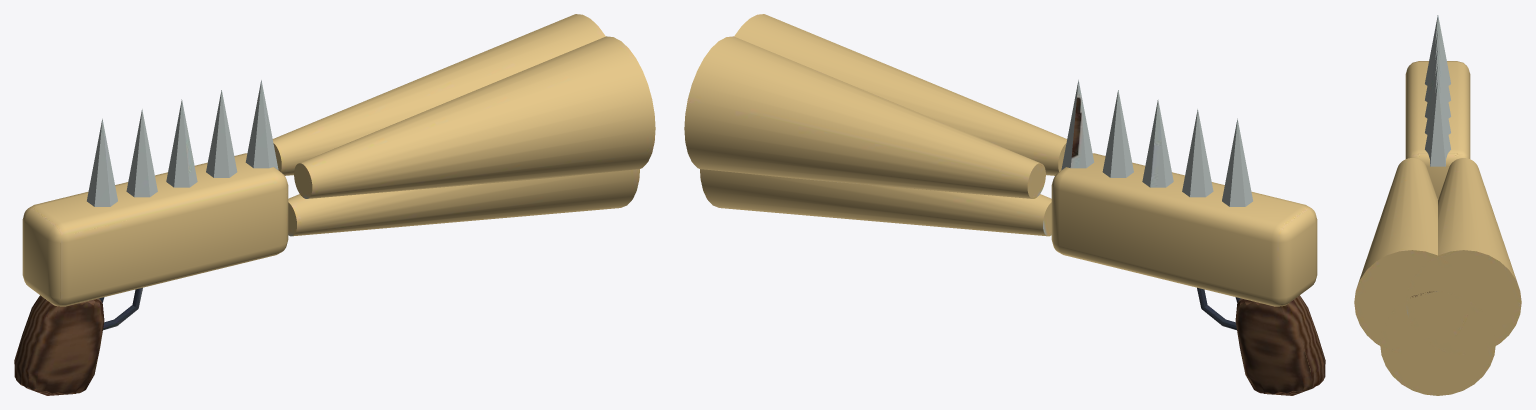
Rendered from resonator.glb.
3 views of the same model, side by side, from view 1: azimuth 30°, elevation 25°; view 2: azimuth 150°, elevation 25°; view 3: azimuth 270°, elevation 25° (orthographic). The views are drawn at different scales.
Visible parts, largest first — view 1: horn0, body, horn2, horn1, grip, crystal4, crystal1, crystal2, crystal0, crystal3; view 2: horn1, body, horn2, horn0, grip, crystal4, crystal1, crystal2, crystal0, crystal3; view 3: horn0, horn1, horn2, body, crystal4, crystal0, crystal3, crystal2, crystal1.
Part boxes in pixels (bbox=[...]): horn0: bbox=[294, 36, 655, 198]; body: bbox=[22, 153, 288, 306]; horn2: bbox=[288, 169, 639, 236]; horn1: bbox=[272, 14, 605, 175]; grip: bbox=[14, 295, 104, 395]; crystal4: bbox=[245, 80, 278, 170]; crystal1: bbox=[126, 109, 157, 197]; crystal2: bbox=[166, 99, 197, 187]; crystal0: bbox=[87, 118, 117, 206]; crystal3: bbox=[206, 90, 237, 177]; horn1: bbox=[684, 36, 1045, 198]; body: bbox=[1051, 153, 1317, 306]; horn2: bbox=[700, 169, 1051, 236]; horn0: bbox=[734, 14, 1067, 175]; grip: bbox=[1235, 295, 1325, 395]; crystal4: bbox=[1061, 80, 1094, 170]; crystal1: bbox=[1182, 109, 1213, 197]; crystal2: bbox=[1142, 99, 1173, 187]; crystal0: bbox=[1222, 118, 1252, 206]; crystal3: bbox=[1102, 90, 1133, 177]; horn0: bbox=[1354, 158, 1470, 354]; horn1: bbox=[1406, 158, 1521, 354]; horn2: bbox=[1380, 199, 1495, 395]; body: bbox=[1405, 61, 1470, 198]; crystal4: bbox=[1425, 80, 1450, 166]; crystal0: bbox=[1425, 15, 1450, 85]; crystal3: bbox=[1425, 64, 1450, 134]; crystal2: bbox=[1425, 48, 1450, 118]; crystal1: bbox=[1425, 31, 1450, 101].
Size of the model in its own units: 0.4434 by 0.1907 by 0.13.
Materials: 1 (1 with a texture image).
